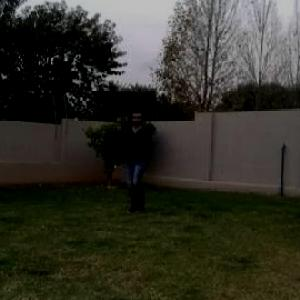follow: (121, 109, 148, 212)
